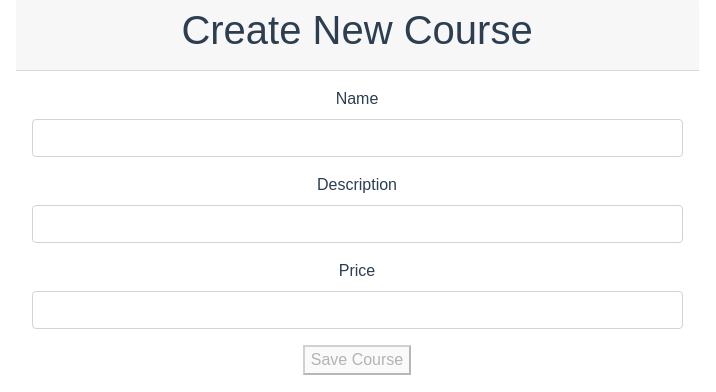
Entering Course Data › enables saveCourseButton when fields are filled
The image size is (716, 392).
Type "HTML Basics" into the field labelled "Name" at (357, 138), box [32,119,682,157]
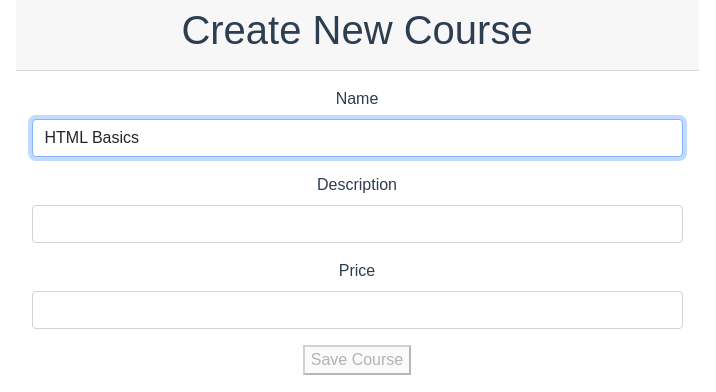
Type "Html Course Description" into the field labelled "Description" at (357, 224), box [32,205,682,243]
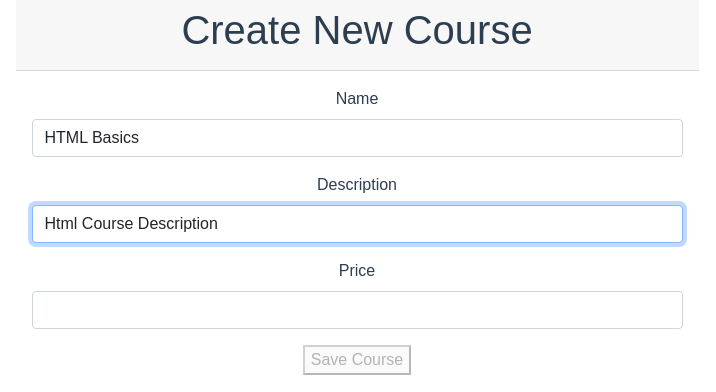
Type "40" into the number field labelled "Price" at (357, 310), box [32,291,682,329]
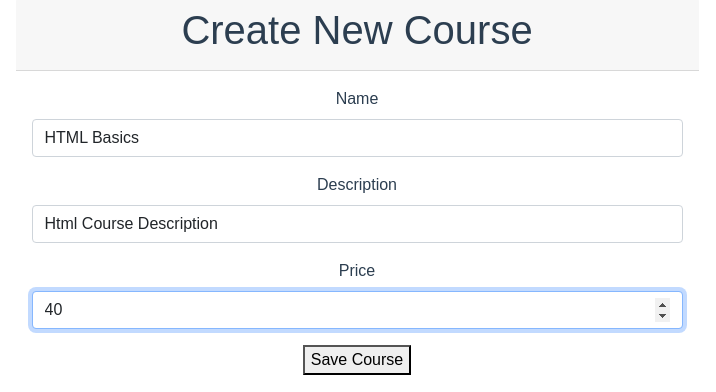
Expected: the button "Save Course" is enabled, [303,345,411,375]
